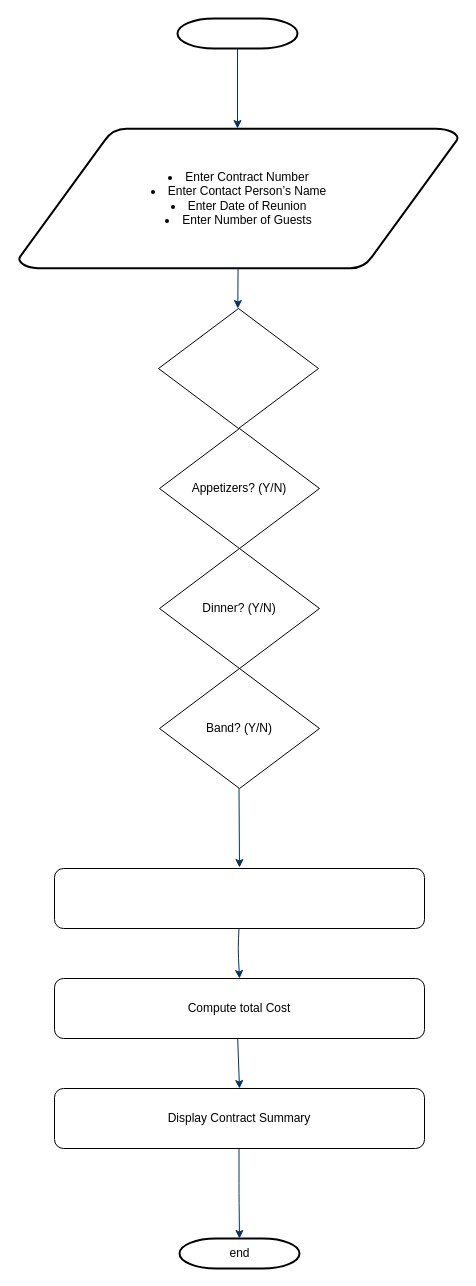
This 476x1286 diagram has some shape labels left out. The box of each missing label's shape, as (x1, y1, x2, y2) in pixels:
Calculate Base Price: (54, 868, 424, 928)
Cocktails? (Y/N): (158, 308, 318, 428)
start: (176, 17, 298, 49)
